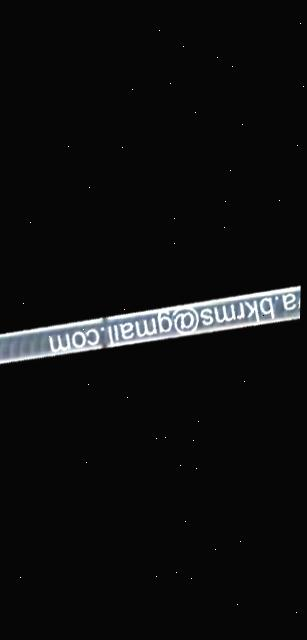crow bar: (0, 133, 305, 507)
